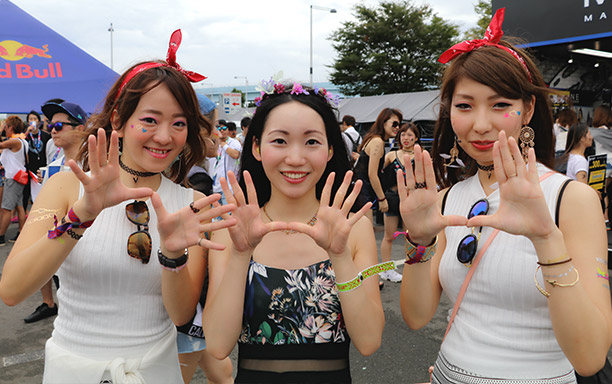face: (252, 101, 333, 200), (111, 80, 189, 173), (450, 74, 522, 163)
hand: (468, 128, 558, 241), (287, 169, 372, 258), (396, 144, 469, 242), (68, 128, 153, 210), (212, 170, 290, 253), (148, 189, 237, 254)
